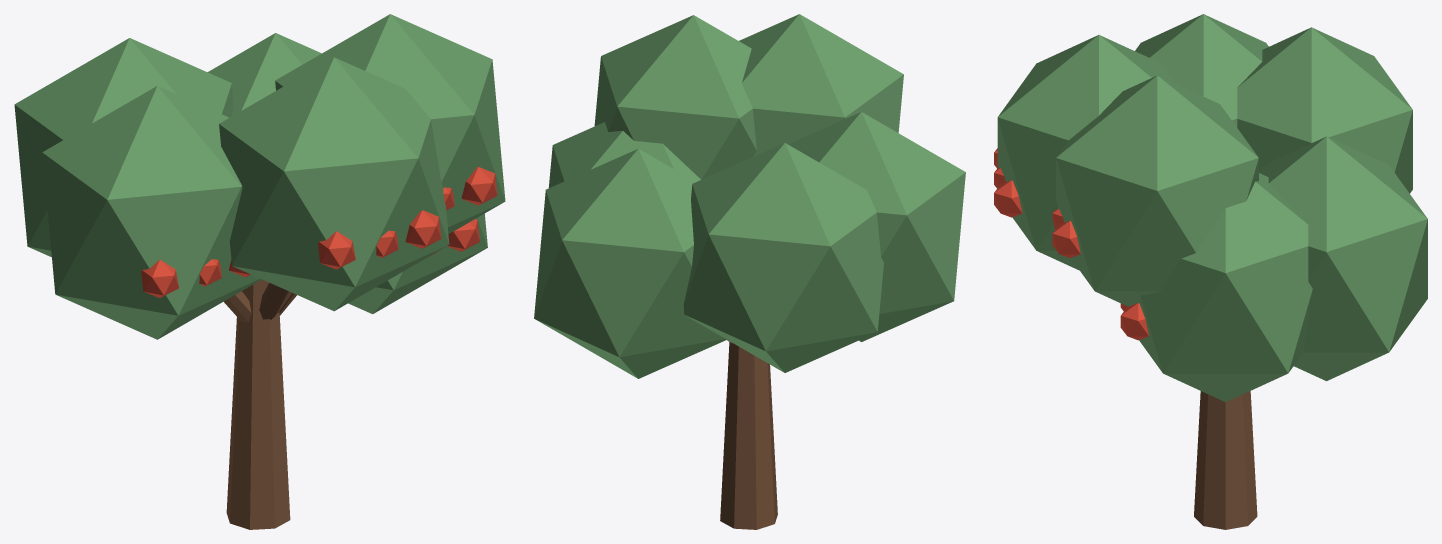
Rendered from nature_apple.glb.
3 views of the same model, side by side, from view 1: azimuth 30°, elevation 25°; view 2: azimuth 150°, elevation 25°; view 3: azimuth 270°, elevation 25° (orthographic). The views are drawn at different scales.
Visible parts, largest first — view 1: nature_apple; view 2: nature_apple; view 3: nature_apple.
Part boxes in pixels (<box>): nature_apple: <box>14,14,505,529</box>; nature_apple: <box>534,14,965,529</box>; nature_apple: <box>994,14,1427,529</box>.
Bounding box in the file's own units: 3.02 × 3.38 × 2.73.
